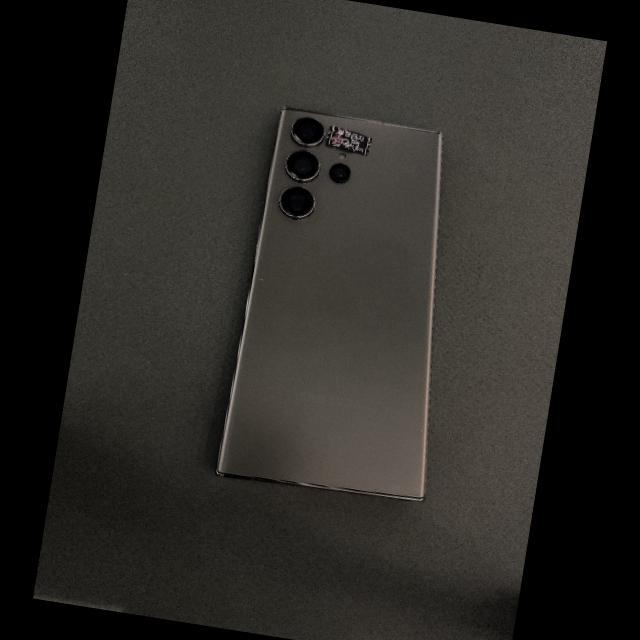lens: (280, 187, 314, 219), (291, 118, 325, 147), (286, 151, 319, 180)
phone: (216, 109, 442, 500)
sticker: (326, 126, 372, 156)
